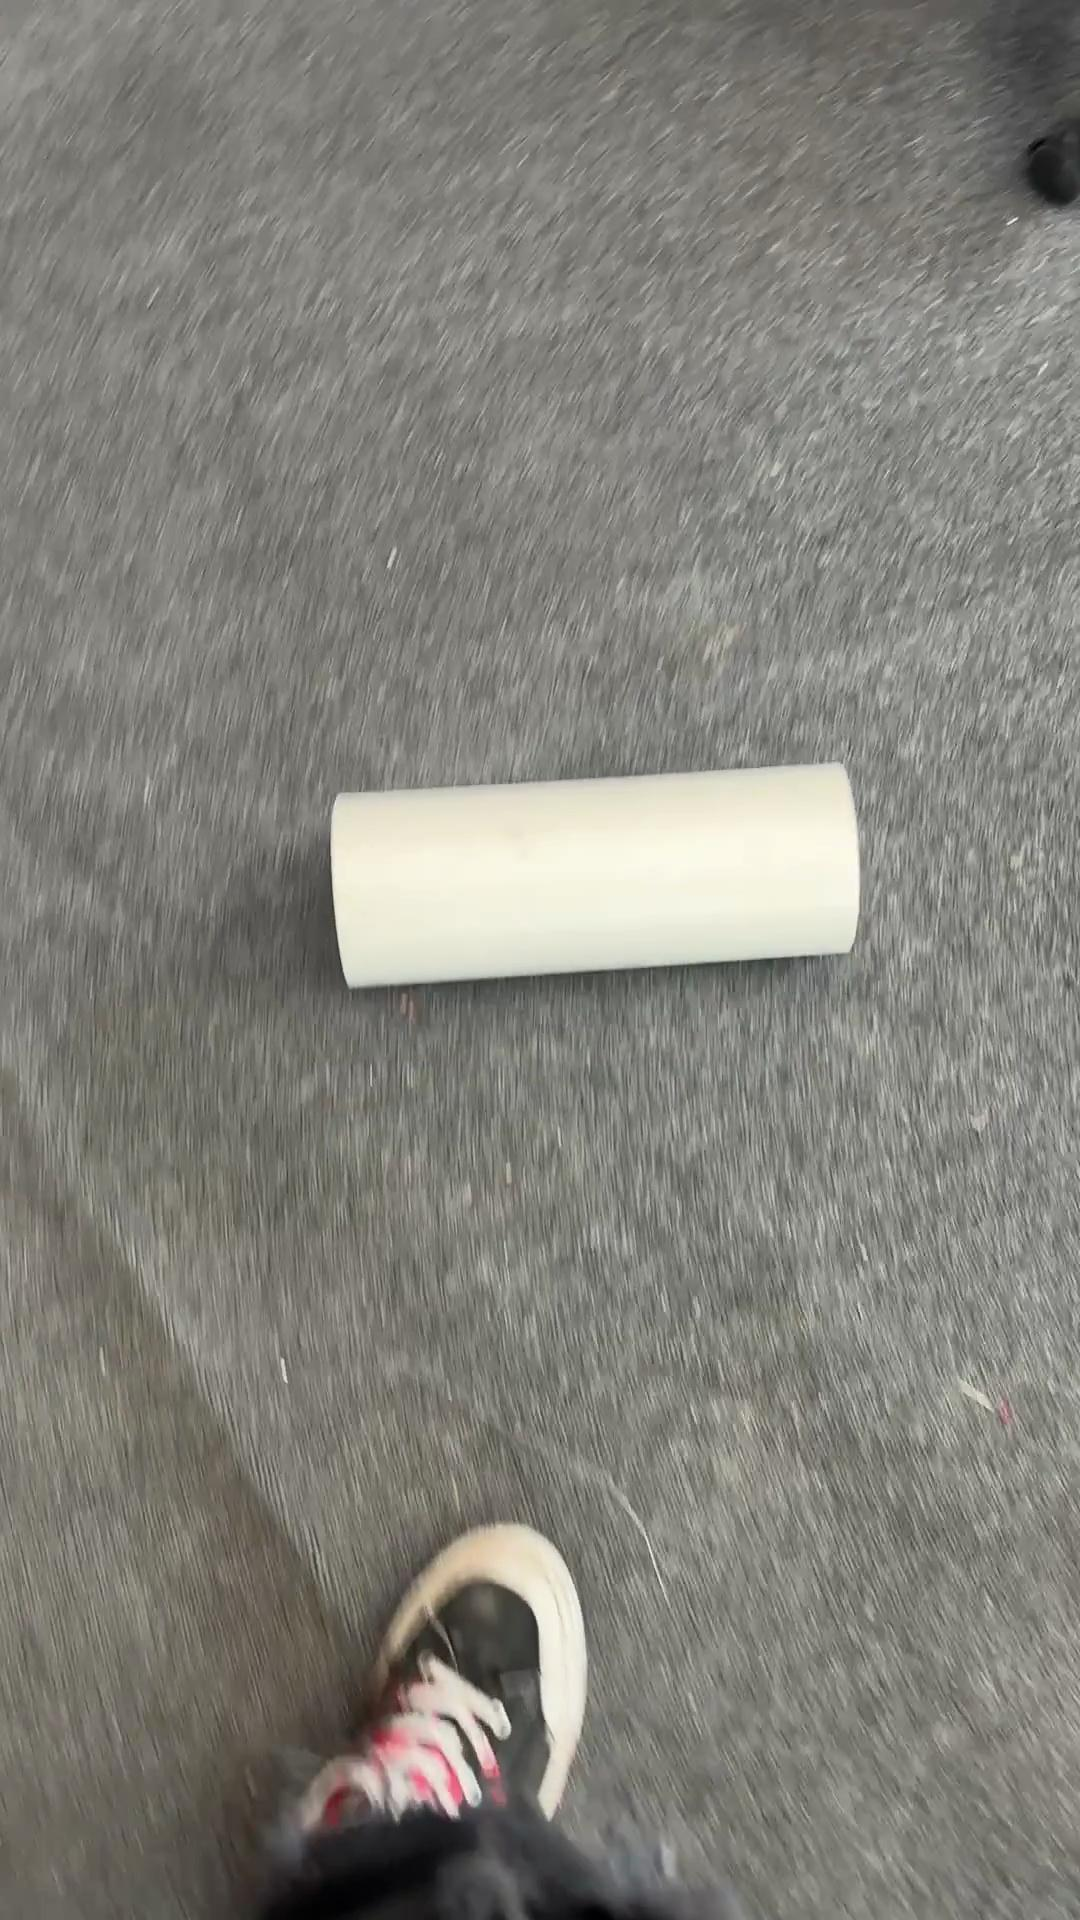CORAL: (326, 757, 862, 992)
